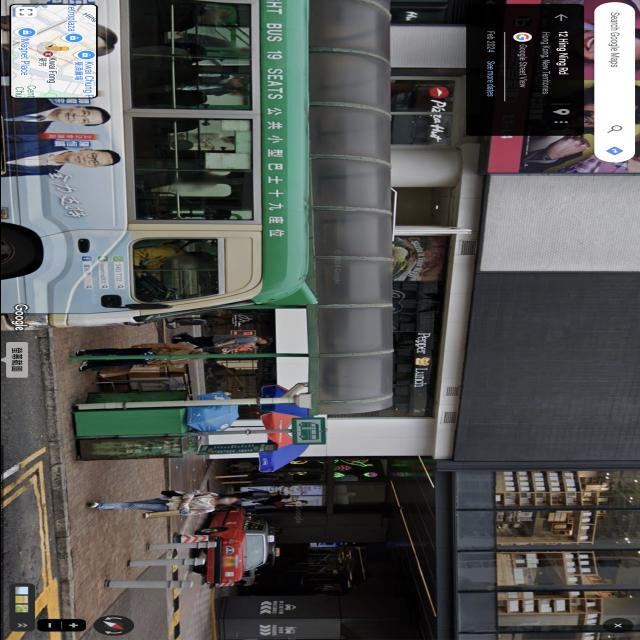Order-Sign: (294, 418, 324, 444)
